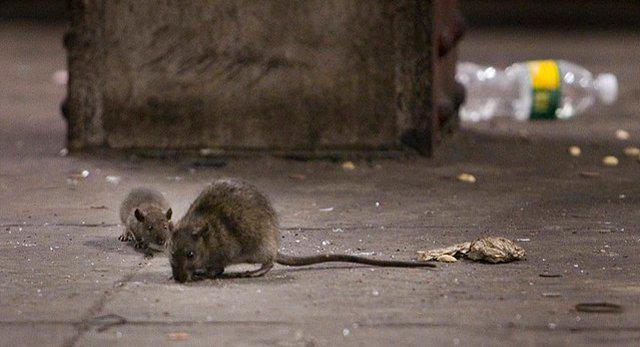rat: (170, 182, 438, 282), (118, 188, 174, 260)
